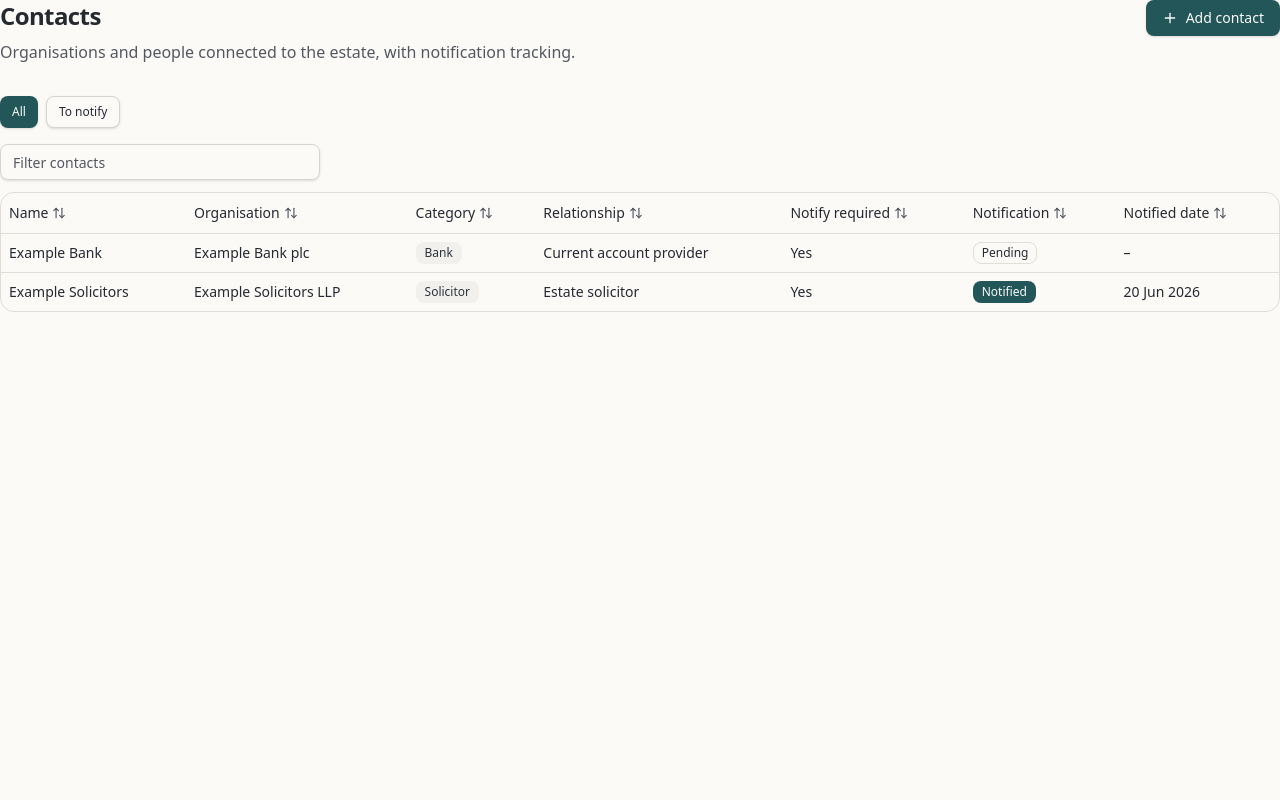
Test: ContactsPage › shows the interactions timeline newest first in the detail dialog
The image size is (1280, 800).
Click the text "Example Bank" at (94, 252), box [1, 233, 186, 272]
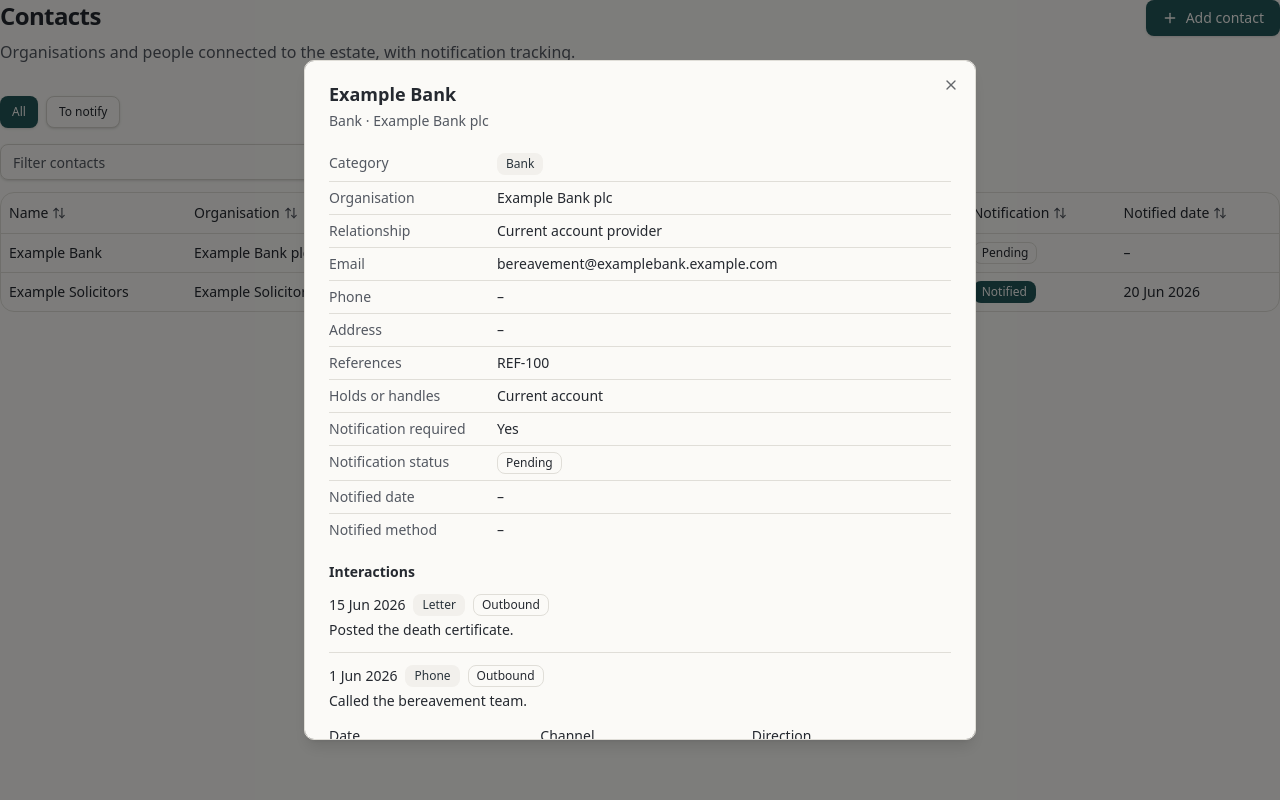
Result: the list item "15 Jun 2026 Letter Outbound Posted the death certificate." is shown at [329, 594, 951, 653]
Result: the list item "1 Jun 2026 Phone Outbound Called the bereavement team." is shown at [329, 665, 544, 710]
